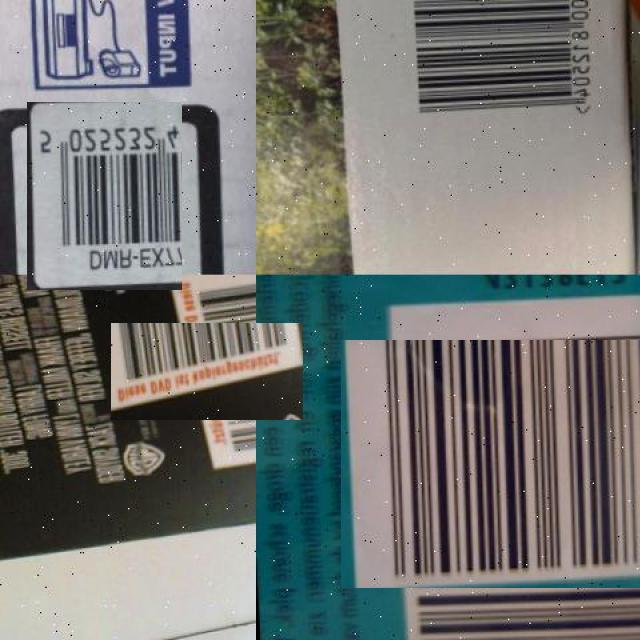Barcode: (367, 314, 640, 614), (18, 110, 190, 282), (391, 0, 613, 131), (135, 299, 280, 444)
